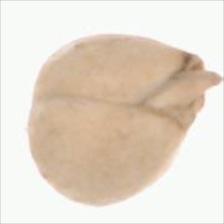L3: (159, 48, 221, 139)
L4: (28, 33, 221, 205)
